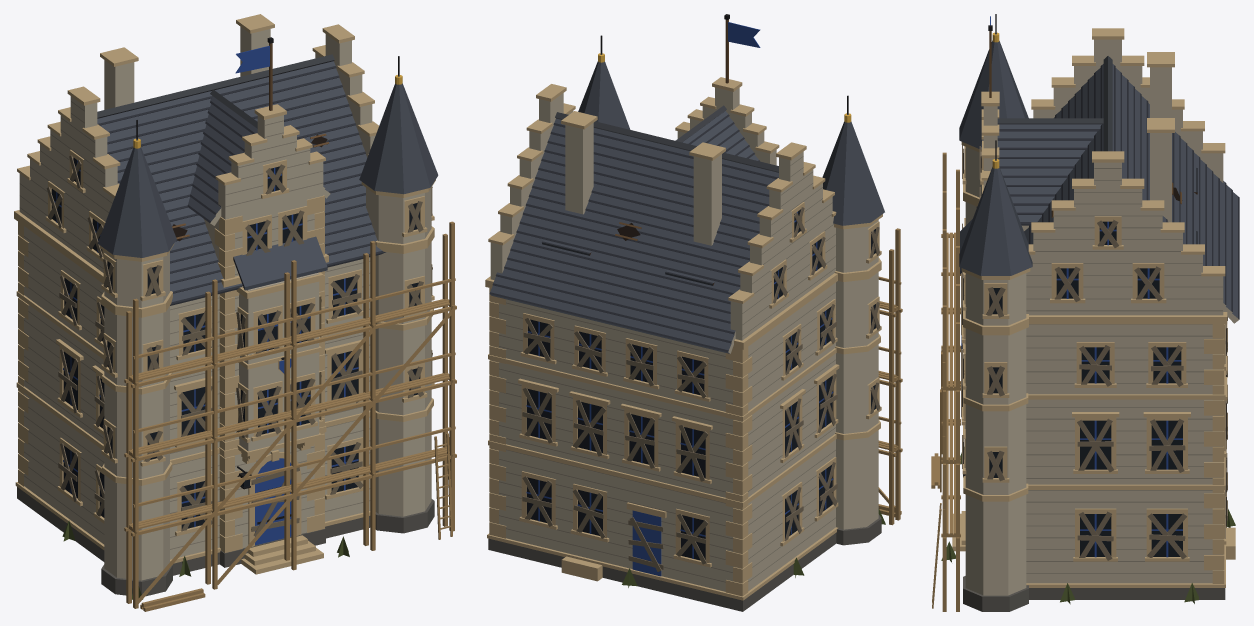
File: stadtpalais.glb
3 renders of one model, left to right at view 1: azimuth 30°, elevation 25°; view 2: azimuth 150°, elevation 25°; view 3: azimuth 270°, elevation 25°, orthographic. The views are drawn at different scales.
Visible parts, largest first — view 1: Haus, Geruest, Leerstand, Fahne; view 2: Haus, Leerstand, Geruest, Fahne; view 3: Haus, Leerstand, Geruest.
Boxes of the visible parts, left/top/right/bottom form: Haus: left=14, top=14, right=438, bottom=596; Geruest: left=124, top=221, right=456, bottom=611; Leerstand: left=46, top=133, right=432, bottom=599; Fahne: left=235, top=37, right=273, bottom=110; Haus: left=485, top=35, right=884, bottom=611; Leerstand: left=522, top=207, right=885, bottom=587; Geruest: left=878, top=228, right=902, bottom=525; Fahne: left=724, top=14, right=760, bottom=83; Haus: left=952, top=14, right=1239, bottom=611; Leerstand: left=941, top=145, right=1235, bottom=604; Geruest: left=931, top=152, right=960, bottom=611.
Bounding box in the file's own units: 11.95 × 18.02 × 9.89.
